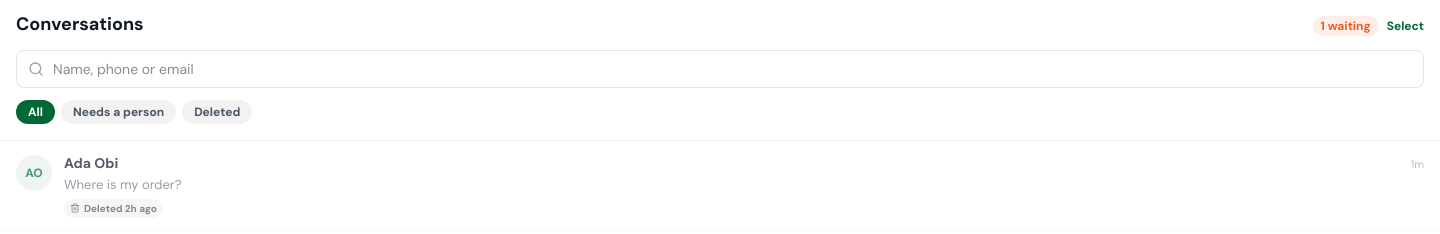
it: ConversationRail › deleting › lists the deleted ones under Deleted, marked, with nothing waiting
Click the button "Deleted". click: (217, 112)
box: 182,100 -> 252,124
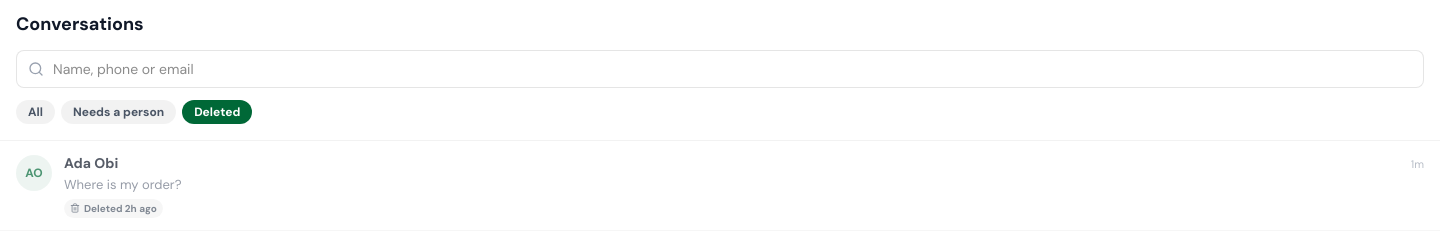
Check: the text "Deleted 2h ago" is shown, box 64,198 -> 163,218
Check: the button "Select" is gone
